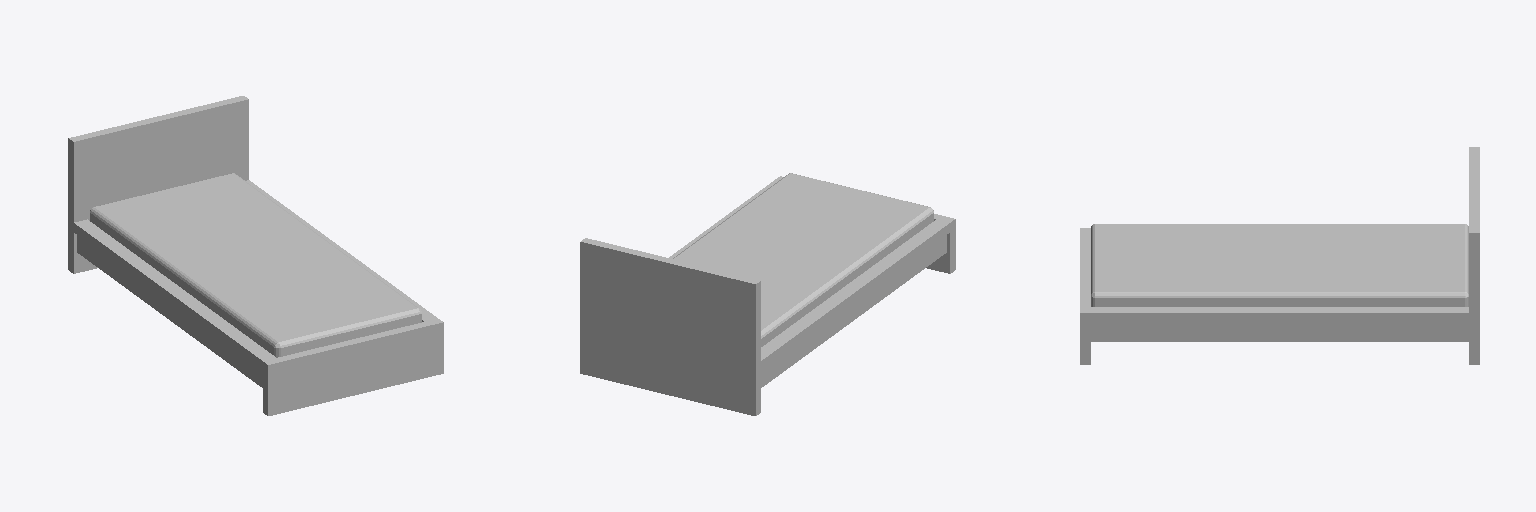
Rendered from DoubleBed_Malm.obj.
The picture shows the model from 3 angles: view 1: azimuth 30°, elevation 25°; view 2: azimuth 150°, elevation 25°; view 3: azimuth 270°, elevation 25°; orthographic projection.
Parts seen in each view (by area): view 1: Mesh2 Group5 Group3 Group2 Group1 Model, Mesh1 Group4 Group3 Group2 Group1 Model; view 2: Mesh2 Group5 Group3 Group2 Group1 Model, Mesh1 Group4 Group3 Group2 Group1 Model; view 3: Mesh1 Group4 Group3 Group2 Group1 Model, Mesh2 Group5 Group3 Group2 Group1 Model.
Boxes of the visible parts, x1,y1,x2,y2 form: Mesh2 Group5 Group3 Group2 Group1 Model: [68, 96, 443, 415]; Mesh1 Group4 Group3 Group2 Group1 Model: [90, 173, 421, 357]; Mesh2 Group5 Group3 Group2 Group1 Model: [580, 176, 955, 415]; Mesh1 Group4 Group3 Group2 Group1 Model: [673, 173, 933, 346]; Mesh1 Group4 Group3 Group2 Group1 Model: [1091, 224, 1468, 306]; Mesh2 Group5 Group3 Group2 Group1 Model: [1080, 147, 1479, 364].
Bounding box in the file's own units: 42.13 × 30.32 × 83.07.